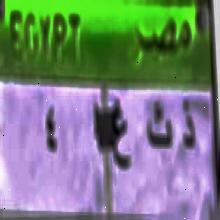4: (40, 100, 62, 165)
ghayn: (109, 94, 134, 184)
thaa: (144, 95, 176, 169)
zaal: (177, 97, 200, 168)
